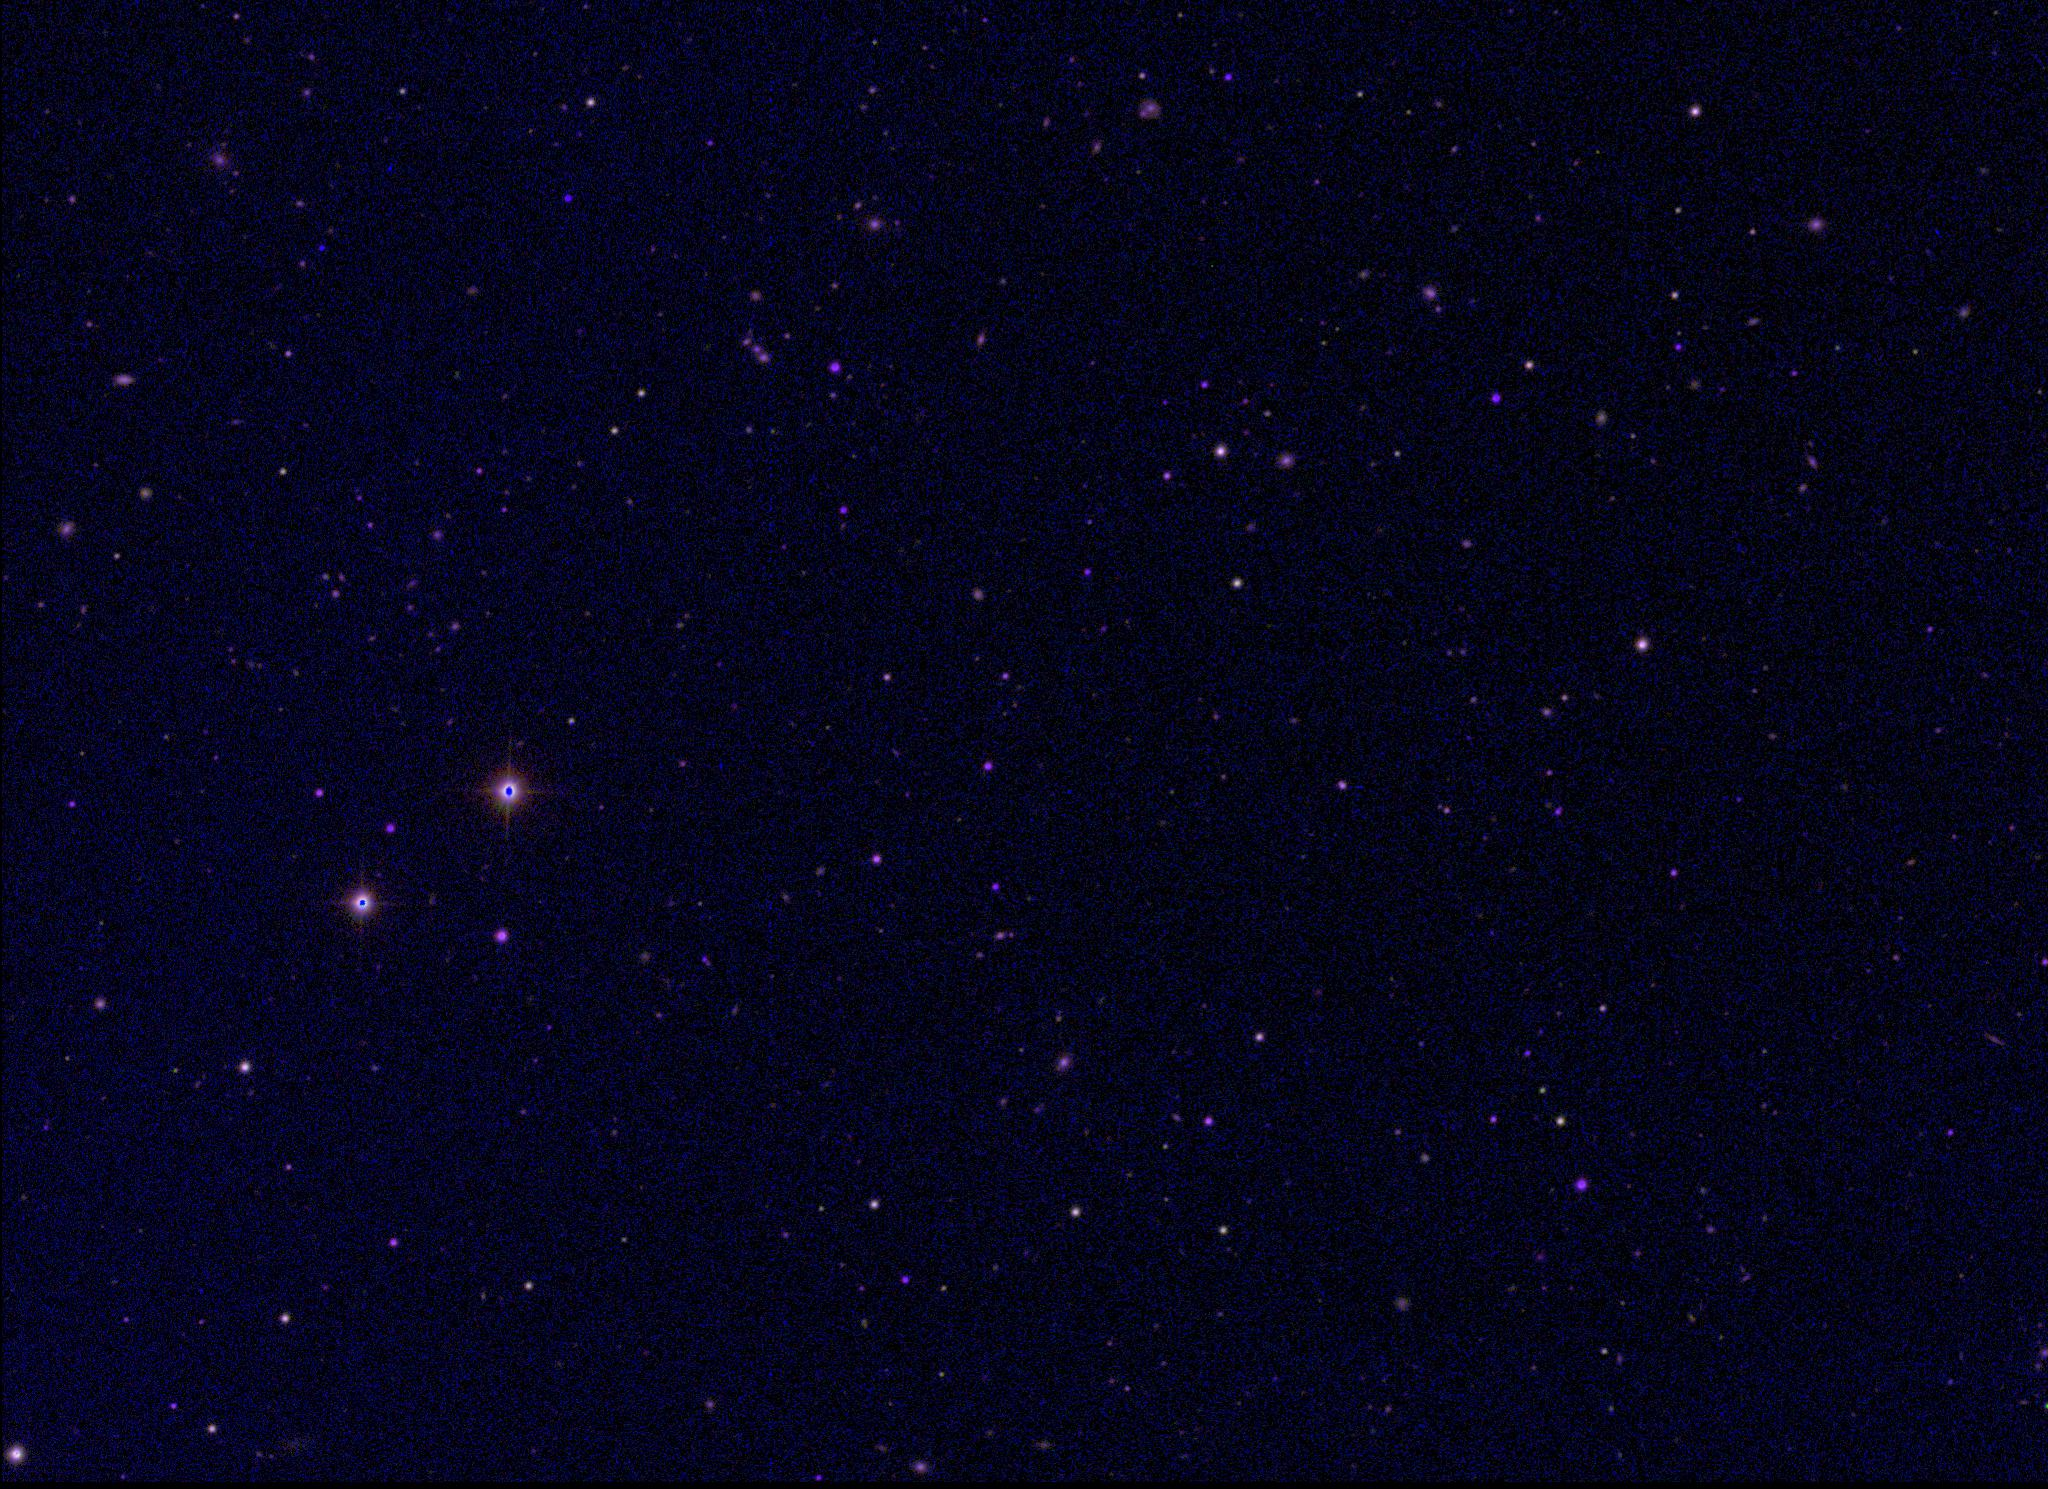L: (315, 240, 329, 255)
